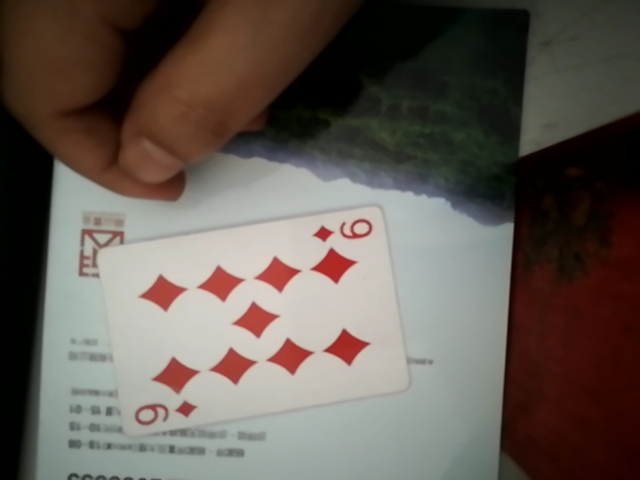fk 9: (94, 199, 412, 438)
